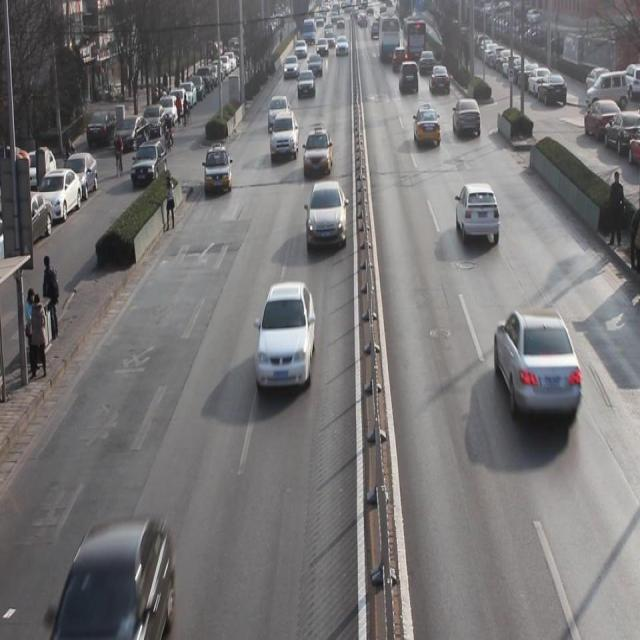car: (495, 308, 582, 432), (253, 280, 316, 396), (306, 181, 348, 253), (457, 180, 500, 247), (204, 145, 234, 198), (270, 112, 299, 164), (303, 126, 333, 176), (413, 104, 441, 148), (452, 98, 482, 139), (267, 94, 290, 132), (399, 64, 421, 95), (430, 64, 450, 97), (298, 72, 318, 98), (307, 52, 324, 78), (283, 54, 299, 81)
